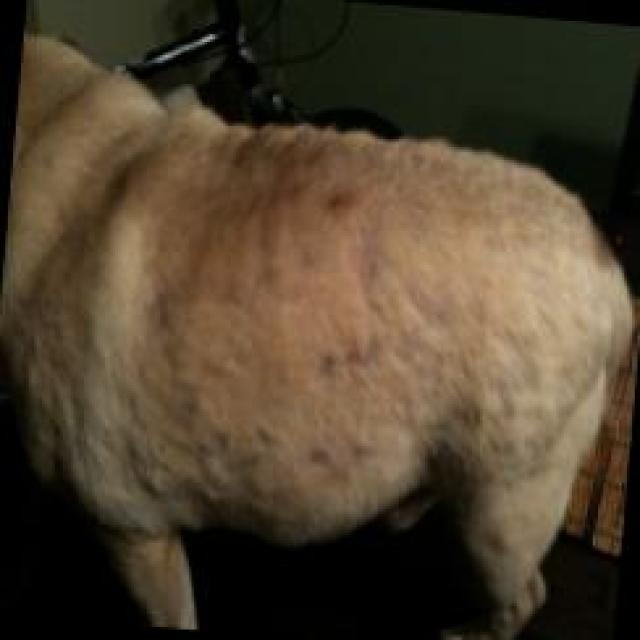allergic dermatitis: (333, 231, 389, 296), (408, 283, 458, 349)
